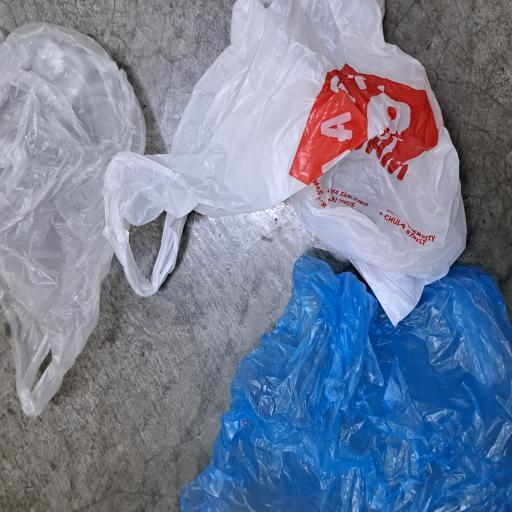plastic bag: (154, 133, 383, 512), (68, 0, 373, 198), (2, 225, 183, 512)
